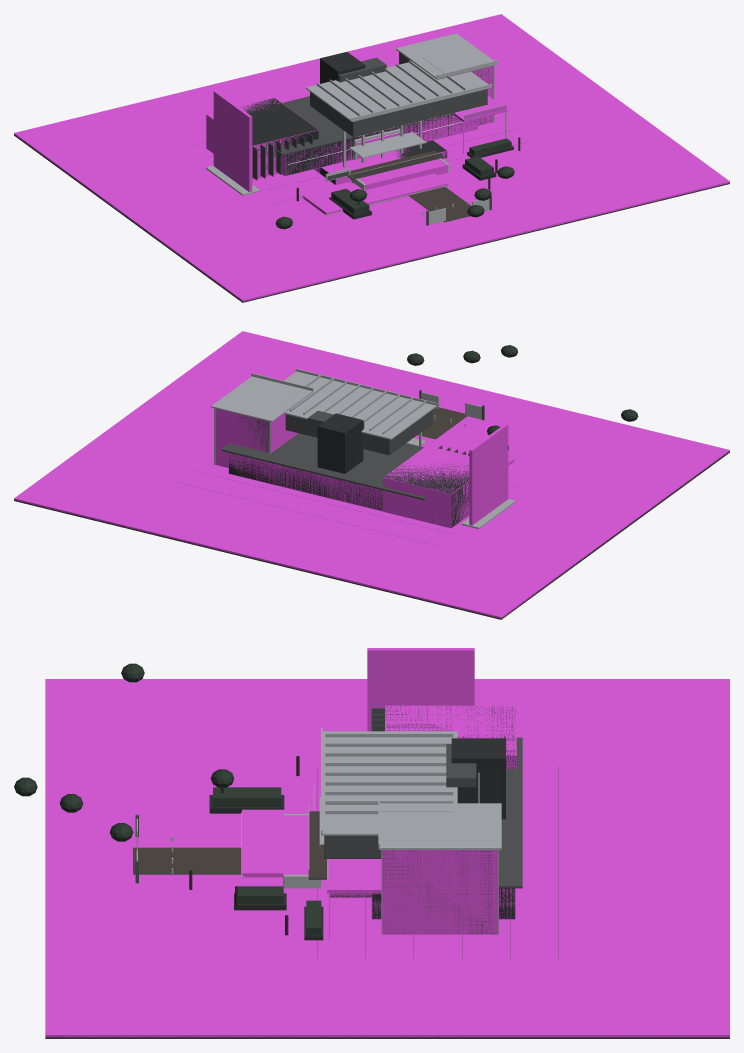
Rendered from digital-residence-exterior.glb.
3 views of the same model, one above another, from view 1: azimuth 30°, elevation 25°; view 2: azimuth 150°, elevation 25°; view 3: azimuth 270°, elevation 25° (orthographic). The views are drawn at different scales.
Visible parts, largest first — view 1: COL_Exterior_Ground, ENV_Roof_Cantilever, COL_Identity_Blade, ENV_Volume_Cantilever, ENV_Roof_East, ENV_Volume_WestWing, COL_Building_Base, COL_Pool, ENV_Volume_Base, ENV_Roof_Main, ENV_Site_Ground, COL_Building_West (+12 smaller); view 2: COL_Exterior_Ground, COL_Building_West, ENV_Roof_Cantilever, ENV_Roof_Main, COL_Building_Base, COL_Identity_Blade, ENV_Roof_East, COL_Building_East, ENV_Volume_Base, ENV_Volume_Core, ENV_Volume_WestWing, ENV_Volume_Cantilever (+2 smaller); view 3: COL_Exterior_Ground, COL_Building_East, ENV_Roof_Cantilever, COL_Identity_Blade, ENV_Roof_East, COL_Building_West, COL_Pool, ENV_Volume_Core, ENV_Approach_Path, ENV_Roof_Main, COL_Terrace_East, COL_Stairs (+12 smaller).
Part boxes in pixels (x1,y1,x2,y2): COL_Exterior_Ground: [14, 14, 729, 301]; ENV_Roof_Cantilever: [306, 61, 491, 121]; COL_Identity_Blade: [213, 90, 252, 191]; ENV_Volume_Cantilever: [310, 89, 487, 137]; ENV_Roof_East: [396, 33, 497, 79]; ENV_Volume_WestWing: [240, 98, 318, 167]; COL_Building_Base: [281, 114, 477, 176]; COL_Pool: [302, 173, 448, 215]; ENV_Volume_Base: [285, 114, 475, 175]; ENV_Roof_Main: [275, 96, 452, 155]; ENV_Site_Ground: [14, 134, 729, 302]; COL_Building_West: [206, 97, 318, 179]; COL_Exterior_Ground: [14, 331, 729, 618]; COL_Building_West: [383, 445, 469, 528]; ENV_Roof_Cantilever: [283, 371, 436, 439]; ENV_Roof_Main: [221, 433, 426, 500]; COL_Building_Base: [228, 453, 382, 511]; COL_Identity_Blade: [469, 424, 508, 525]; ENV_Roof_East: [211, 376, 312, 422]; COL_Building_East: [215, 408, 298, 467]; ENV_Volume_Base: [229, 453, 382, 510]; ENV_Volume_Core: [317, 413, 363, 473]; ENV_Volume_WestWing: [384, 463, 469, 527]; ENV_Volume_Cantilever: [285, 410, 432, 455]; COL_Exterior_Ground: [45, 679, 729, 1037]; COL_Building_East: [382, 850, 498, 934]; ENV_Roof_Cantilever: [321, 731, 457, 835]; COL_Identity_Blade: [367, 648, 474, 731]; ENV_Roof_East: [378, 803, 501, 849]; COL_Building_West: [385, 705, 516, 768]; COL_Pool: [242, 784, 313, 877]; ENV_Volume_Core: [451, 738, 505, 819]; ENV_Approach_Path: [133, 847, 241, 874]; ENV_Roof_Main: [499, 737, 522, 888]; COL_Terrace_East: [327, 859, 381, 892]; COL_Stairs: [283, 815, 308, 886].
Size of the model in its own units: 96 by 14.87 by 81.55.
